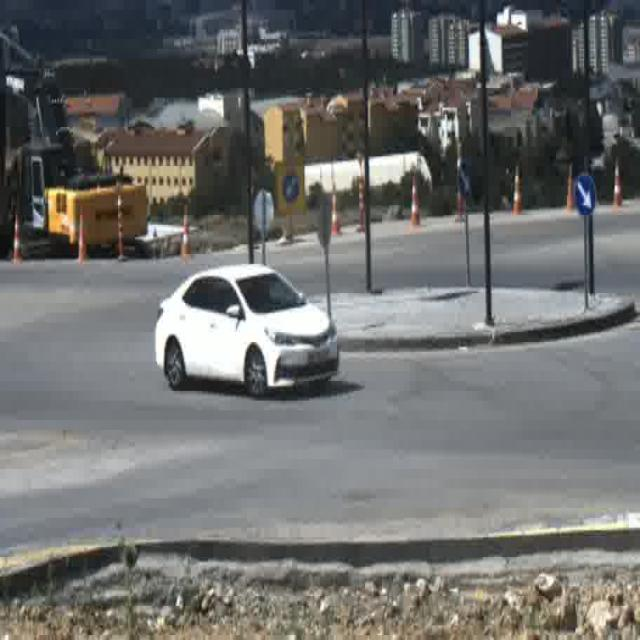Car: (153, 263, 340, 397)
